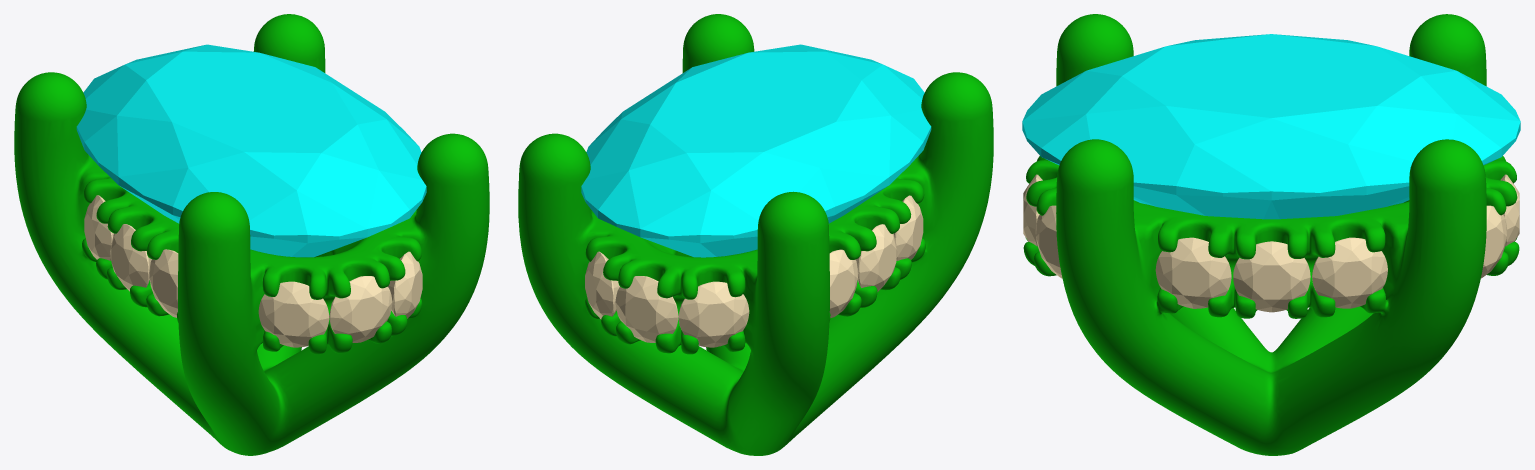
3 renders of one model, left to right at view 1: azimuth 30°, elevation 25°; view 2: azimuth 150°, elevation 25°; view 3: azimuth 270°, elevation 25°, orthographic. The views are drawn at different scales.
Visible parts, largest first — view 1: Metal01, Diamond_Oval, Diamond_Round.002, Diamond_Round.001, Diamond_Round.010, Diamond_Round.011, Diamond_Round, Diamond_Round.009; view 2: Metal01, Diamond_Oval, Diamond_Round.003, Diamond_Round.004, Diamond_Round.010, Diamond_Round.009, Diamond_Round.005, Diamond_Round.011; view 3: Metal01, Diamond_Oval, Diamond_Round.007, Diamond_Round.008, Diamond_Round.006, Diamond_Round, Diamond_Round.005, Diamond_Round.001, Diamond_Round.004.
Part boxes in pixels (x1,y1,x2,y2): Metal01: [14, 14, 489, 455]; Diamond_Oval: [76, 44, 426, 257]; Diamond_Round.002: [258, 281, 329, 347]; Diamond_Round.001: [329, 276, 392, 342]; Diamond_Round.010: [110, 224, 151, 291]; Diamond_Round.011: [149, 249, 178, 317]; Diamond_Round: [388, 251, 422, 318]; Diamond_Round.009: [84, 195, 113, 260]; Metal01: [518, 14, 993, 455]; Diamond_Oval: [581, 44, 931, 257]; Diamond_Round.003: [678, 281, 749, 347]; Diamond_Round.004: [615, 276, 678, 342]; Diamond_Round.010: [855, 224, 897, 291]; Diamond_Round.009: [829, 249, 858, 317]; Diamond_Round.005: [585, 251, 619, 319]; Diamond_Round.011: [893, 195, 923, 260]; Metal01: [1023, 14, 1519, 455]; Diamond_Oval: [1022, 34, 1520, 219]; Diamond_Round.007: [1233, 241, 1310, 312]; Diamond_Round.008: [1155, 237, 1231, 308]; Diamond_Round.006: [1312, 237, 1387, 308]; Diamond_Round: [1035, 205, 1062, 278]; Diamond_Round.005: [1481, 205, 1507, 278]; Diamond_Round.001: [1023, 174, 1042, 246]; Diamond_Round.004: [1500, 174, 1519, 246].
Bounding box in the file's own units: 4.86 × 5.3 × 6.44.
